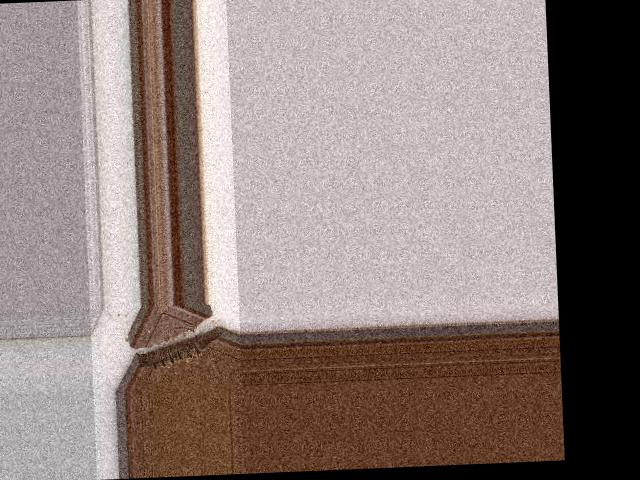chocolate: (111, 302, 241, 389)
